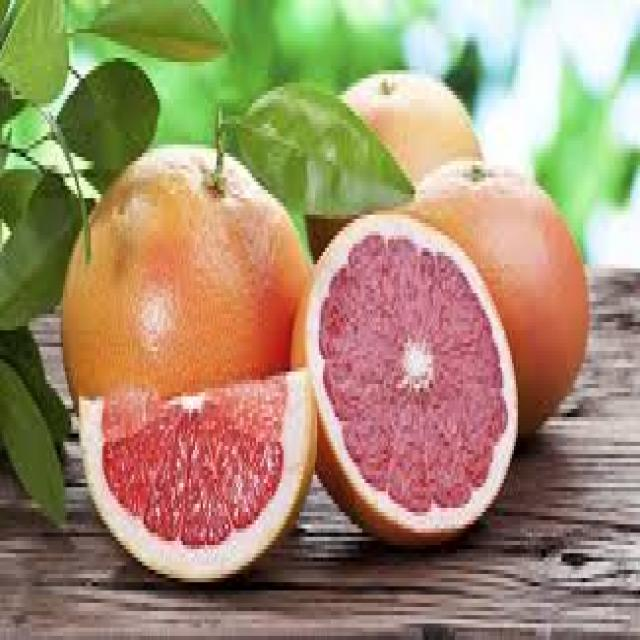organic waste: (59, 140, 311, 475), (293, 202, 516, 533), (73, 359, 317, 582), (413, 161, 589, 442), (302, 70, 484, 281), (228, 82, 418, 219)
